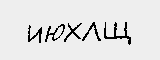И: (27, 24, 44, 45)
Л: (81, 19, 102, 47)
Х: (63, 19, 83, 44)
Щ: (101, 18, 132, 45)
Ю: (44, 22, 64, 46)
